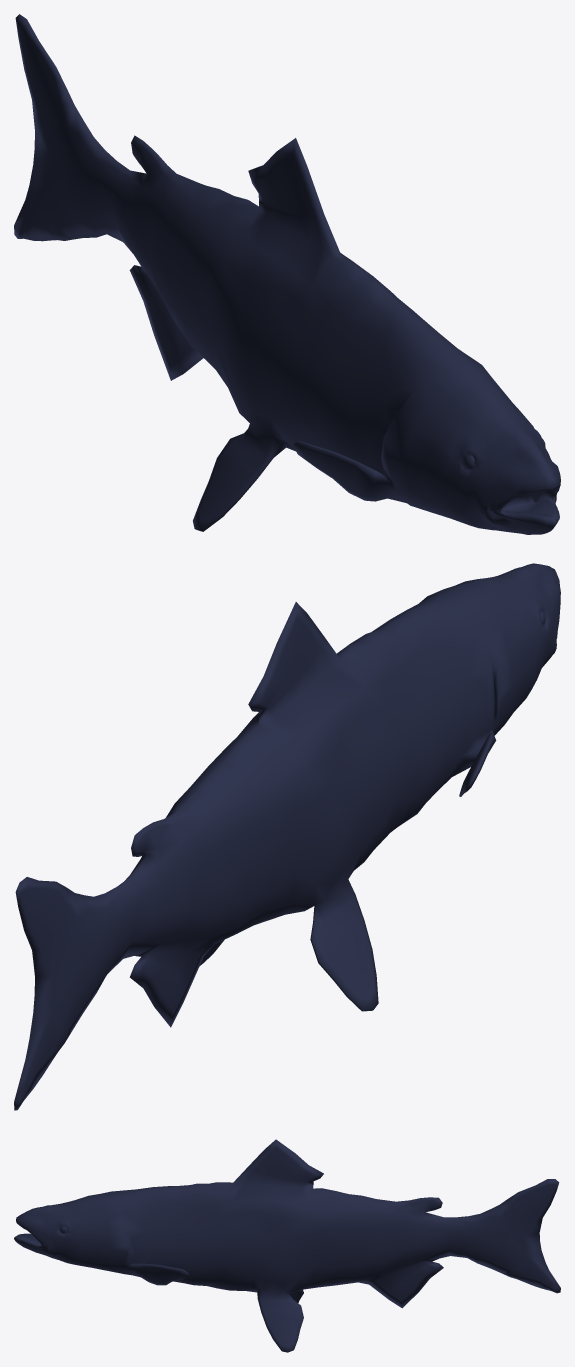
File: salmon.glb
3 renders of one model, top to bottom at view 1: azimuth 30°, elevation 25°; view 2: azimuth 150°, elevation 25°; view 3: azimuth 270°, elevation 25°, orthographic. The views are drawn at different scales.
Visible parts, largest first — view 1: SALMON; view 2: SALMON; view 3: SALMON.
Part boxes in pixels (bbox=[...]): SALMON: bbox=[14, 14, 560, 534]; SALMON: bbox=[14, 563, 560, 1110]; SALMON: bbox=[14, 1139, 560, 1352].
Bounding box in the file's own units: 0.0946 × 0.1895 × 0.4902.
